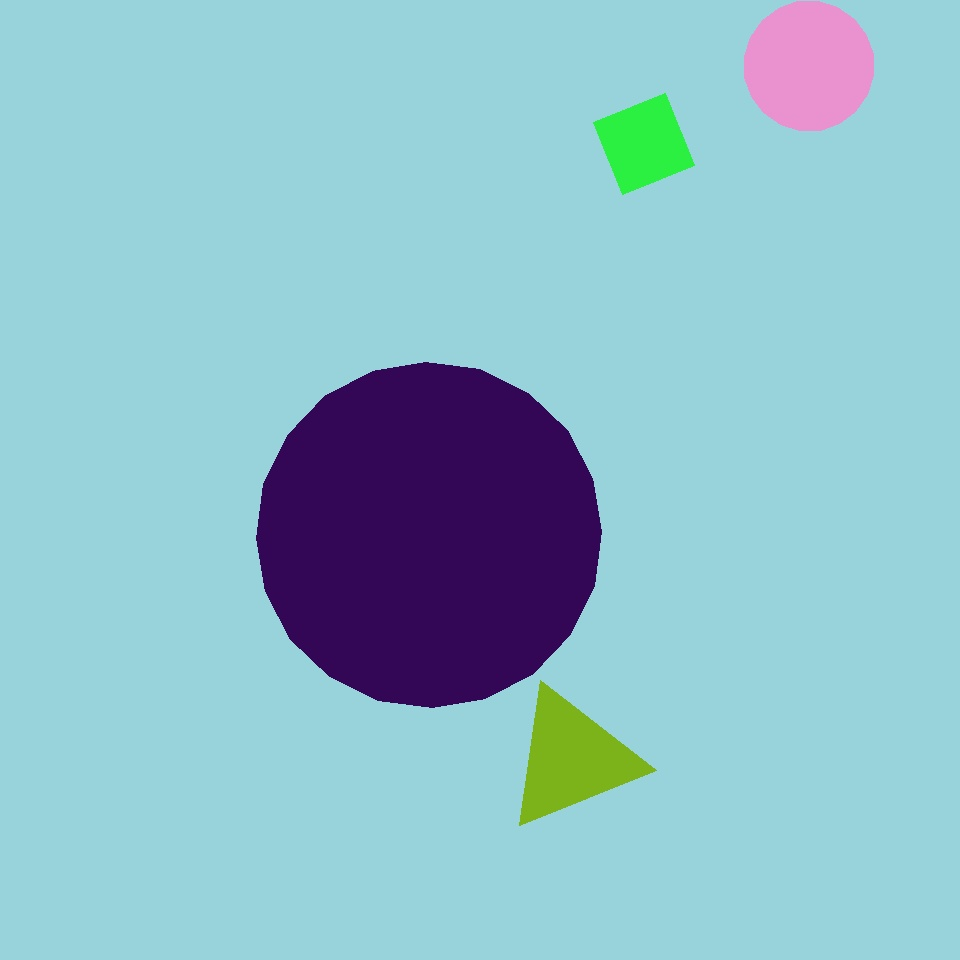circle: (503, 686, 640, 832)
square: (594, 93, 694, 194)
triangle: (256, 362, 602, 708), (744, 2, 873, 130)
